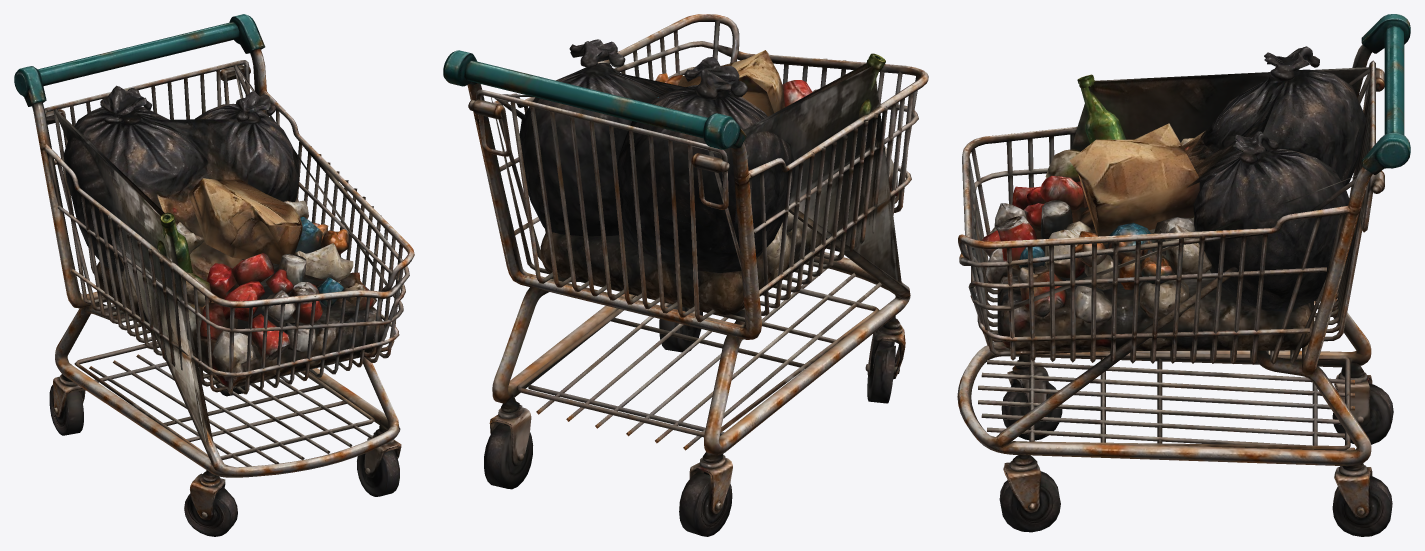
File: rusty+shopping+cart+3d+model.glb
3 renders of one model, left to right at view 1: azimuth 30°, elevation 25°; view 2: azimuth 150°, elevation 25°; view 3: azimuth 270°, elevation 25°, orthographic. The views are drawn at different scales.
Visible parts, largest first — view 1: tripo_node_4c3e4a3f-0538-4720-91d3-94a627b3e12b; view 2: tripo_node_4c3e4a3f-0538-4720-91d3-94a627b3e12b; view 3: tripo_node_4c3e4a3f-0538-4720-91d3-94a627b3e12b.
Part boxes in pixels (x1,y1,x2,y2): tripo_node_4c3e4a3f-0538-4720-91d3-94a627b3e12b: [14, 14, 414, 536]; tripo_node_4c3e4a3f-0538-4720-91d3-94a627b3e12b: [443, 14, 928, 536]; tripo_node_4c3e4a3f-0538-4720-91d3-94a627b3e12b: [957, 14, 1410, 536].
Bounding box in the file's own units: 0.6772 × 0.9995 × 0.9956.
1 material, 1 textured.
